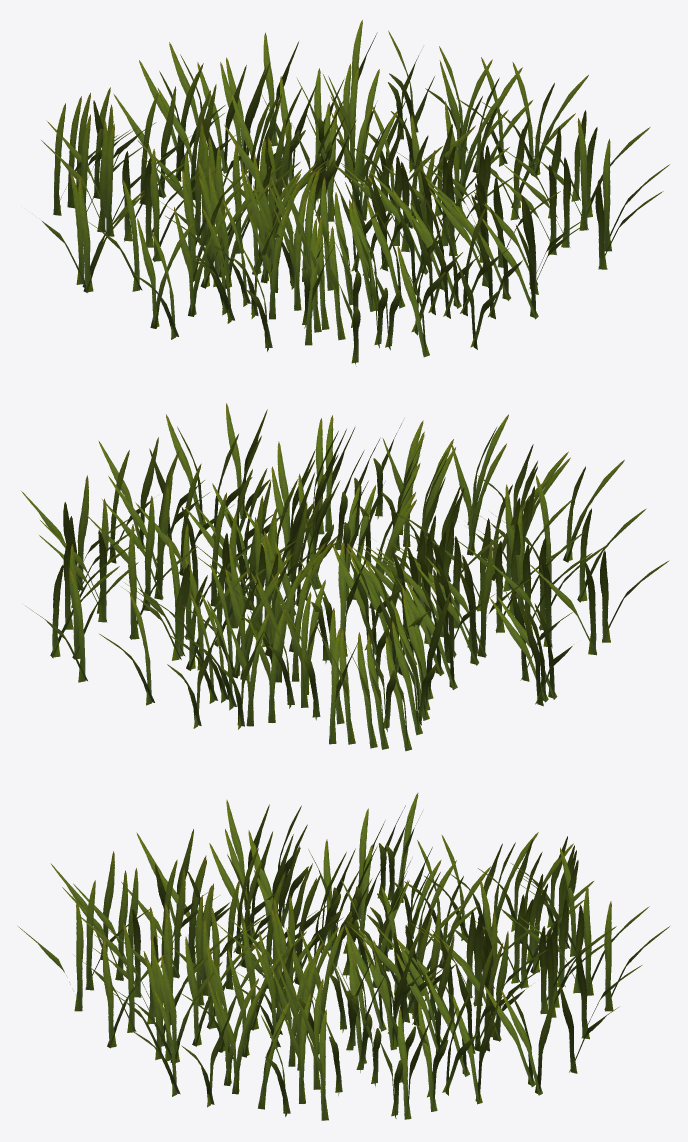
The model's file is forest_grass2.fbx.
3 renders of one model, top to bottom at view 1: azimuth 30°, elevation 25°; view 2: azimuth 150°, elevation 25°; view 3: azimuth 270°, elevation 25°, orthographic. The views are drawn at different scales.
Parts seen in each view (by area): view 1: StaticMeshActor_3_StaticMeshComponent0; view 2: StaticMeshActor_3_StaticMeshComponent0; view 3: StaticMeshActor_3_StaticMeshComponent0.
Boxes of the visible parts, x1,y1,x2,y2 form: StaticMeshActor_3_StaticMeshComponent0: [41, 20, 669, 366]; StaticMeshActor_3_StaticMeshComponent0: [21, 403, 669, 751]; StaticMeshActor_3_StaticMeshComponent0: [18, 793, 669, 1120].
Bounding box in the file's own units: 6.74 × 1.2 × 6.93.
